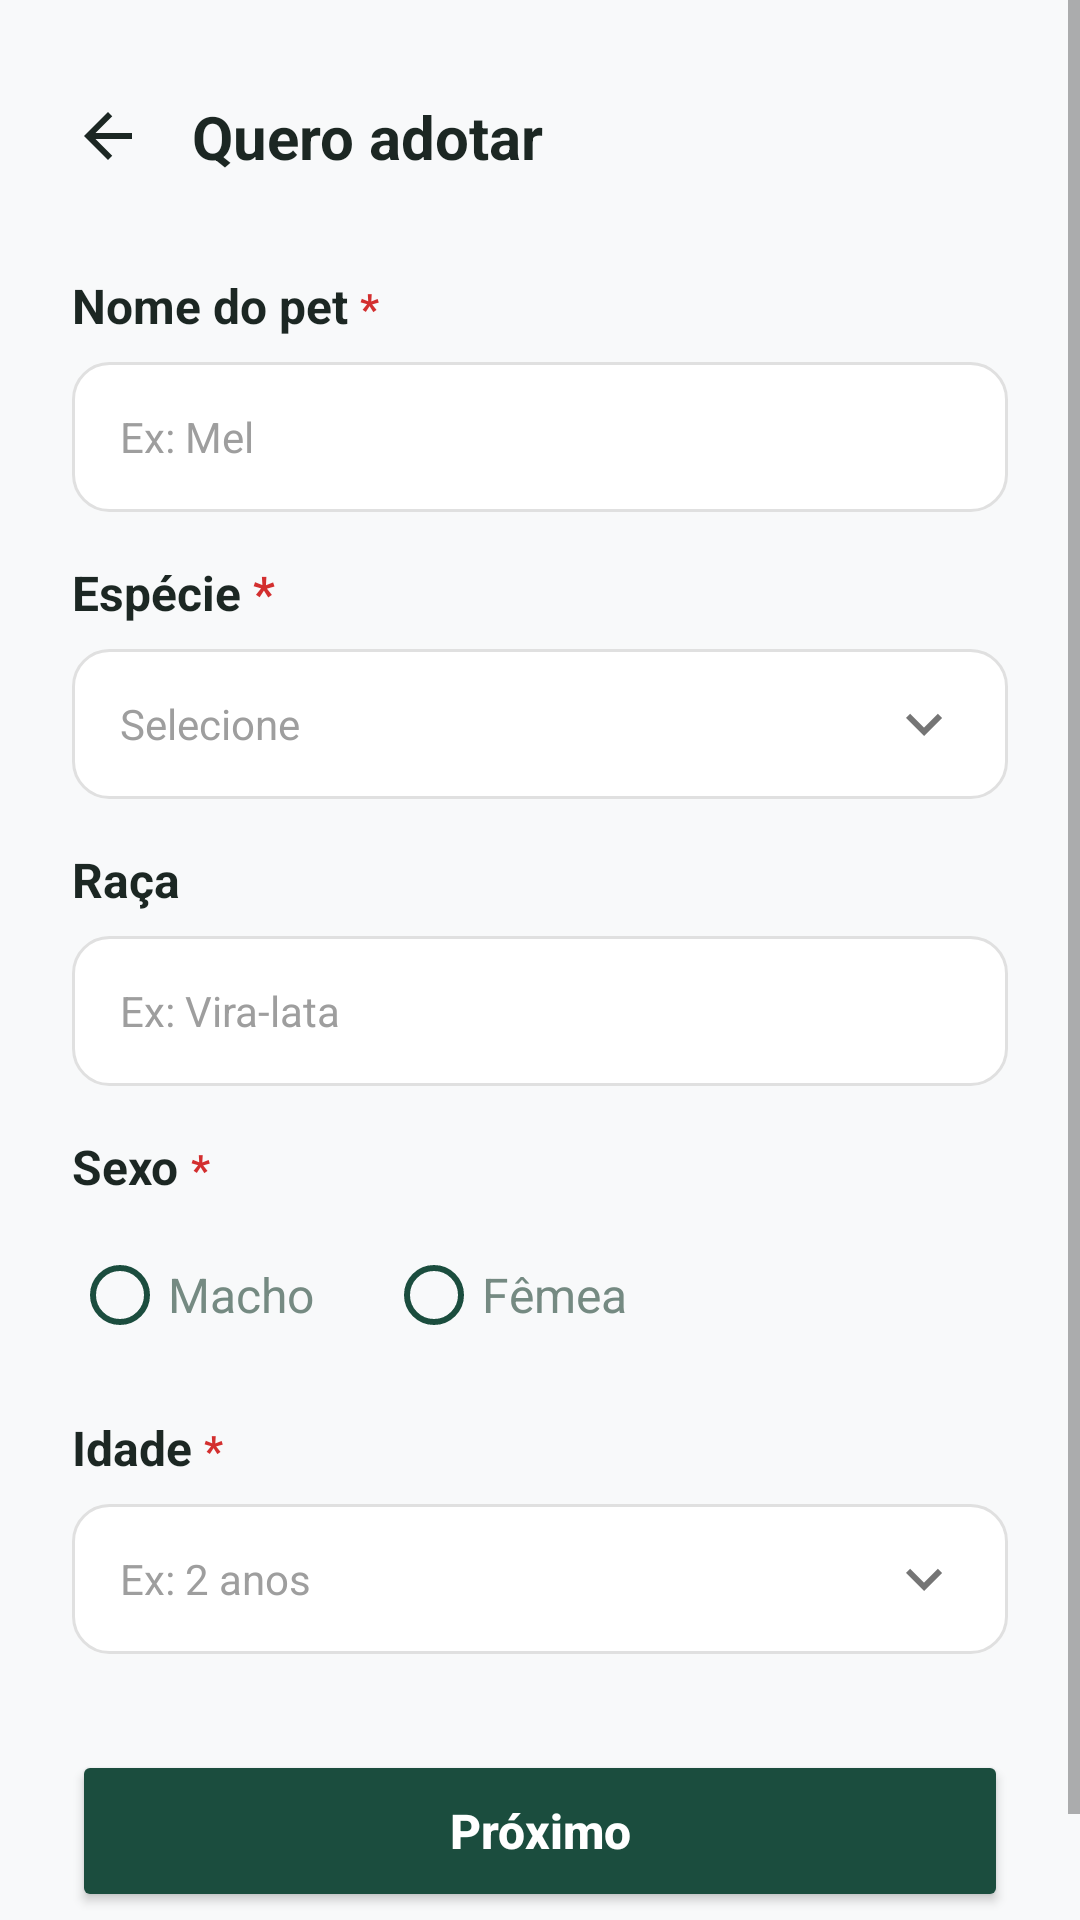

Icons on this 1080 x 1920 Android screen, each with the point to tap as point (x, y):
Voltar: point (108, 136)
